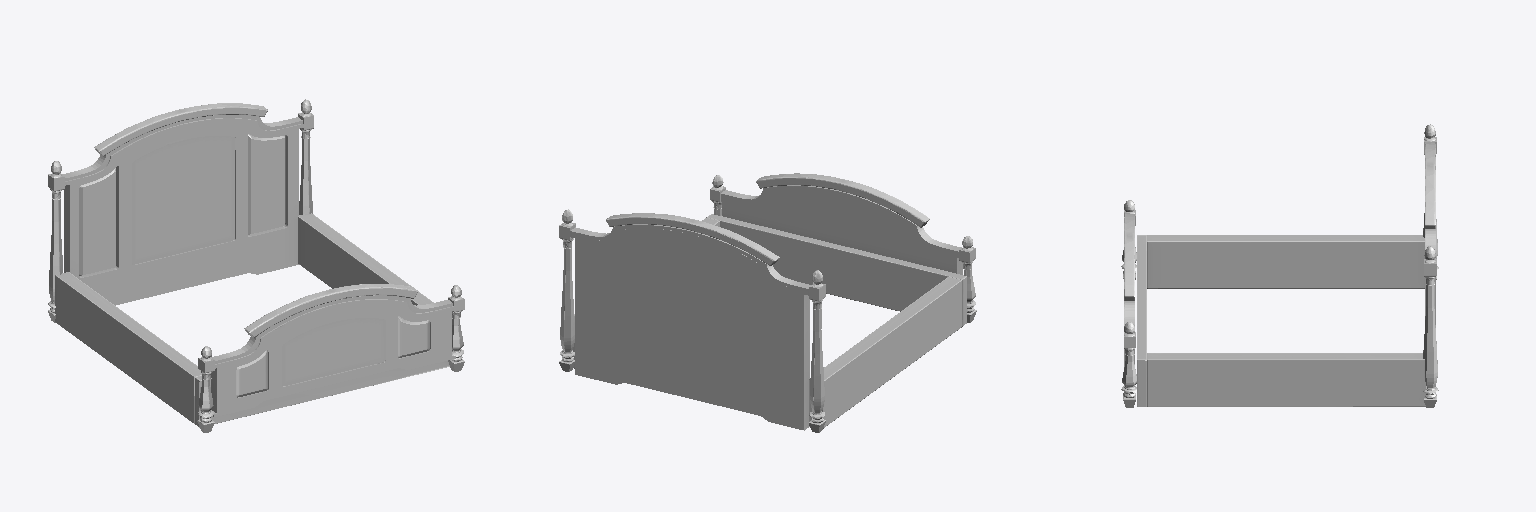
The picture shows the model from 3 angles: view 1: azimuth 30°, elevation 25°; view 2: azimuth 150°, elevation 25°; view 3: azimuth 270°, elevation 25°; orthographic projection.
Parts seen in each view (by area): view 1: solid_001; view 2: solid_001; view 3: solid_001.
Boxes of the visible parts, x1,y1,x2,y2 form: solid_001: [48, 99, 464, 432]; solid_001: [559, 173, 976, 432]; solid_001: [1121, 124, 1438, 407].
Size of the model in its own units: 1.71 by 1.11 by 1.78.
Materials: 1 (1 with a texture image).